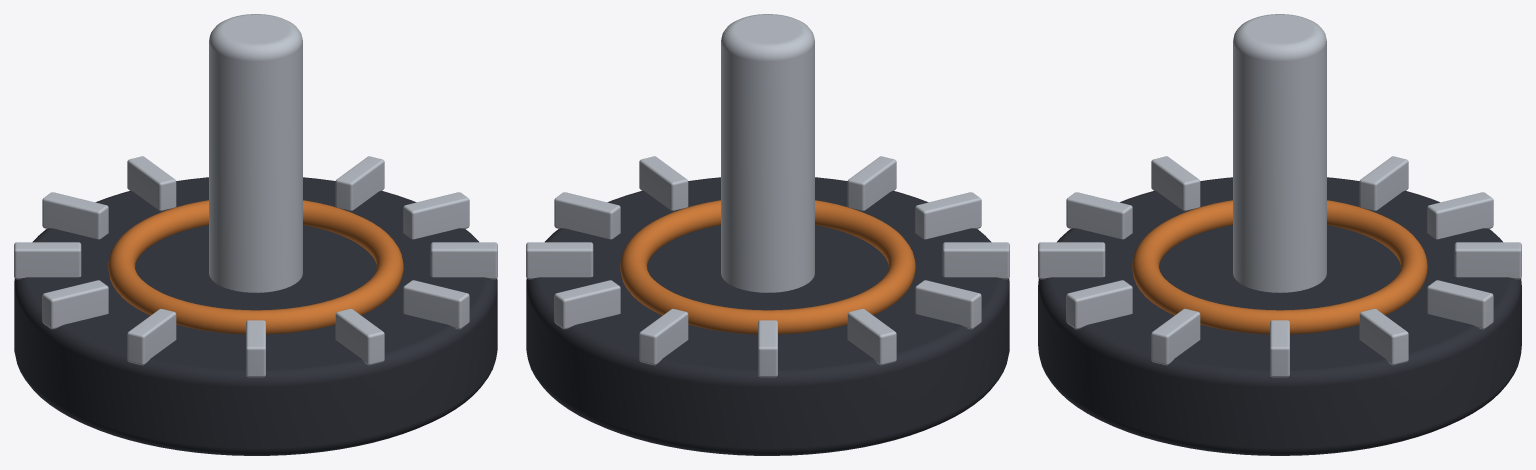
The model's file is crank_base.glb.
3 renders of one model, left to right at view 1: azimuth 30°, elevation 25°; view 2: azimuth 150°, elevation 25°; view 3: azimuth 270°, elevation 25°, orthographic.
Parts seen in each view (by area): view 1: crank_base; view 2: crank_base; view 3: crank_base.
Part boxes in pixels (<box>): crank_base: <box>14,14,497,455</box>; crank_base: <box>526,14,1009,455</box>; crank_base: <box>1038,14,1521,455</box>.
Size of the model in its own units: 0.72 by 0.54 by 0.72.
